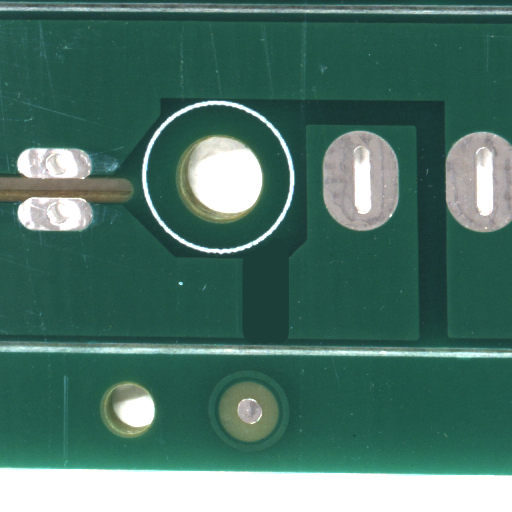Open_circuit: (266, 297, 320, 384)
